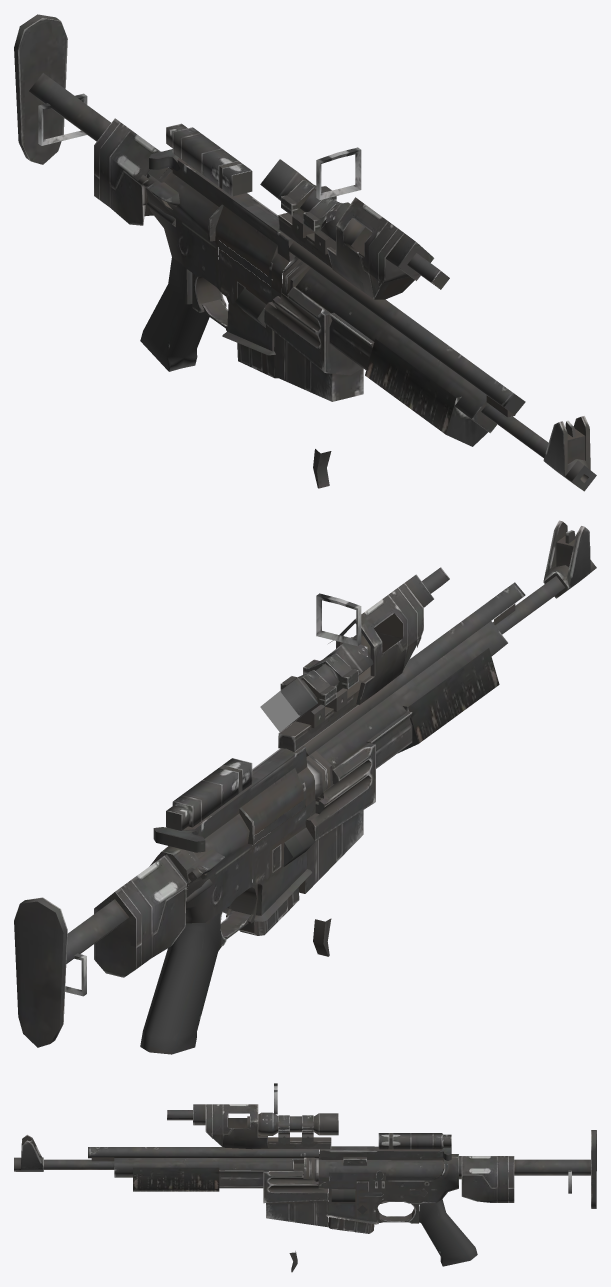
3 renders of one model, top to bottom at view 1: azimuth 30°, elevation 25°; view 2: azimuth 150°, elevation 25°; view 3: azimuth 270°, elevation 25°, orthographic. The views are drawn at different scales.
Visible parts, largest first — view 1: a280_mesh3p_mesh; view 2: a280_mesh3p_mesh; view 3: a280_mesh3p_mesh.
Boxes of the visible parts, x1,y1,x2,y2 form: a280_mesh3p_mesh: (14,14,596,491); a280_mesh3p_mesh: (14,520,596,1054); a280_mesh3p_mesh: (14,1083,596,1272).
Size of the model in its own units: 0.0422 by 0.2338 by 0.6729.
2 materials, 1 textured.
